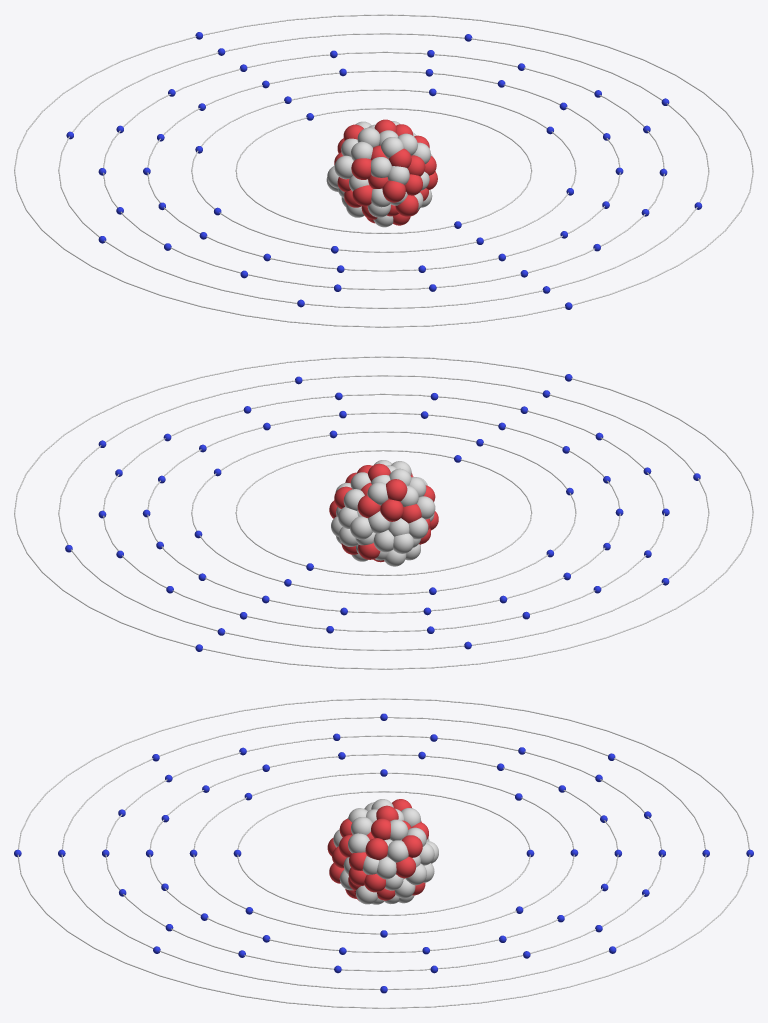
File: Barium.glb
3 renders of one model, top to bottom at view 1: azimuth 30°, elevation 25°; view 2: azimuth 150°, elevation 25°; view 3: azimuth 270°, elevation 25°, orthographic.
Visible parts, largest first — view 1: P-Schale, O-Schale, N-Schale, M-Schale, L-Schale, K-Schale; view 2: P-Schale, O-Schale, N-Schale, M-Schale, L-Schale, K-Schale; view 3: P-Schale, O-Schale, N-Schale, M-Schale, L-Schale, K-Schale.
Boxes of the visible parts, x1,y1,x2,y2 form: P-Schale: (14,14,753,327); O-Schale: (58,33,709,308); N-Schale: (103,51,664,290); M-Schale: (147,70,620,271); L-Schale: (191,89,576,252); K-Schale: (235,108,532,233); P-Schale: (14,356,753,669); O-Schale: (58,375,709,650); N-Schale: (103,393,664,632); M-Schale: (147,412,620,613); L-Schale: (191,431,576,594); K-Schale: (235,450,532,575); P-Schale: (17,698,750,1008); O-Schale: (61,717,706,989); N-Schale: (105,735,662,971); M-Schale: (149,754,618,952); L-Schale: (193,772,574,934); K-Schale: (237,791,530,915).
Size of the model in its own units: 25.04 by 3.61 by 25.26.
